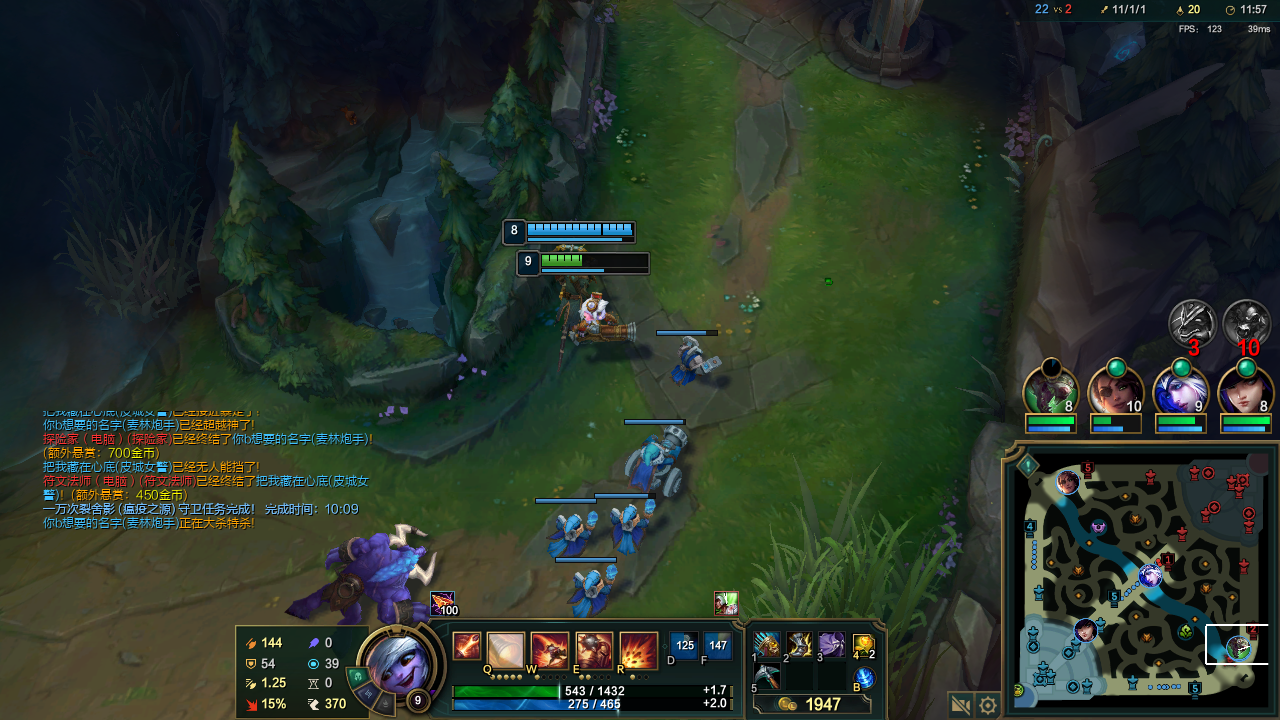WFXB: (618, 430, 704, 494), (561, 560, 629, 617), (543, 504, 604, 565), (599, 498, 666, 549), (664, 340, 728, 387)
Yita: (1186, 676, 1205, 702)
